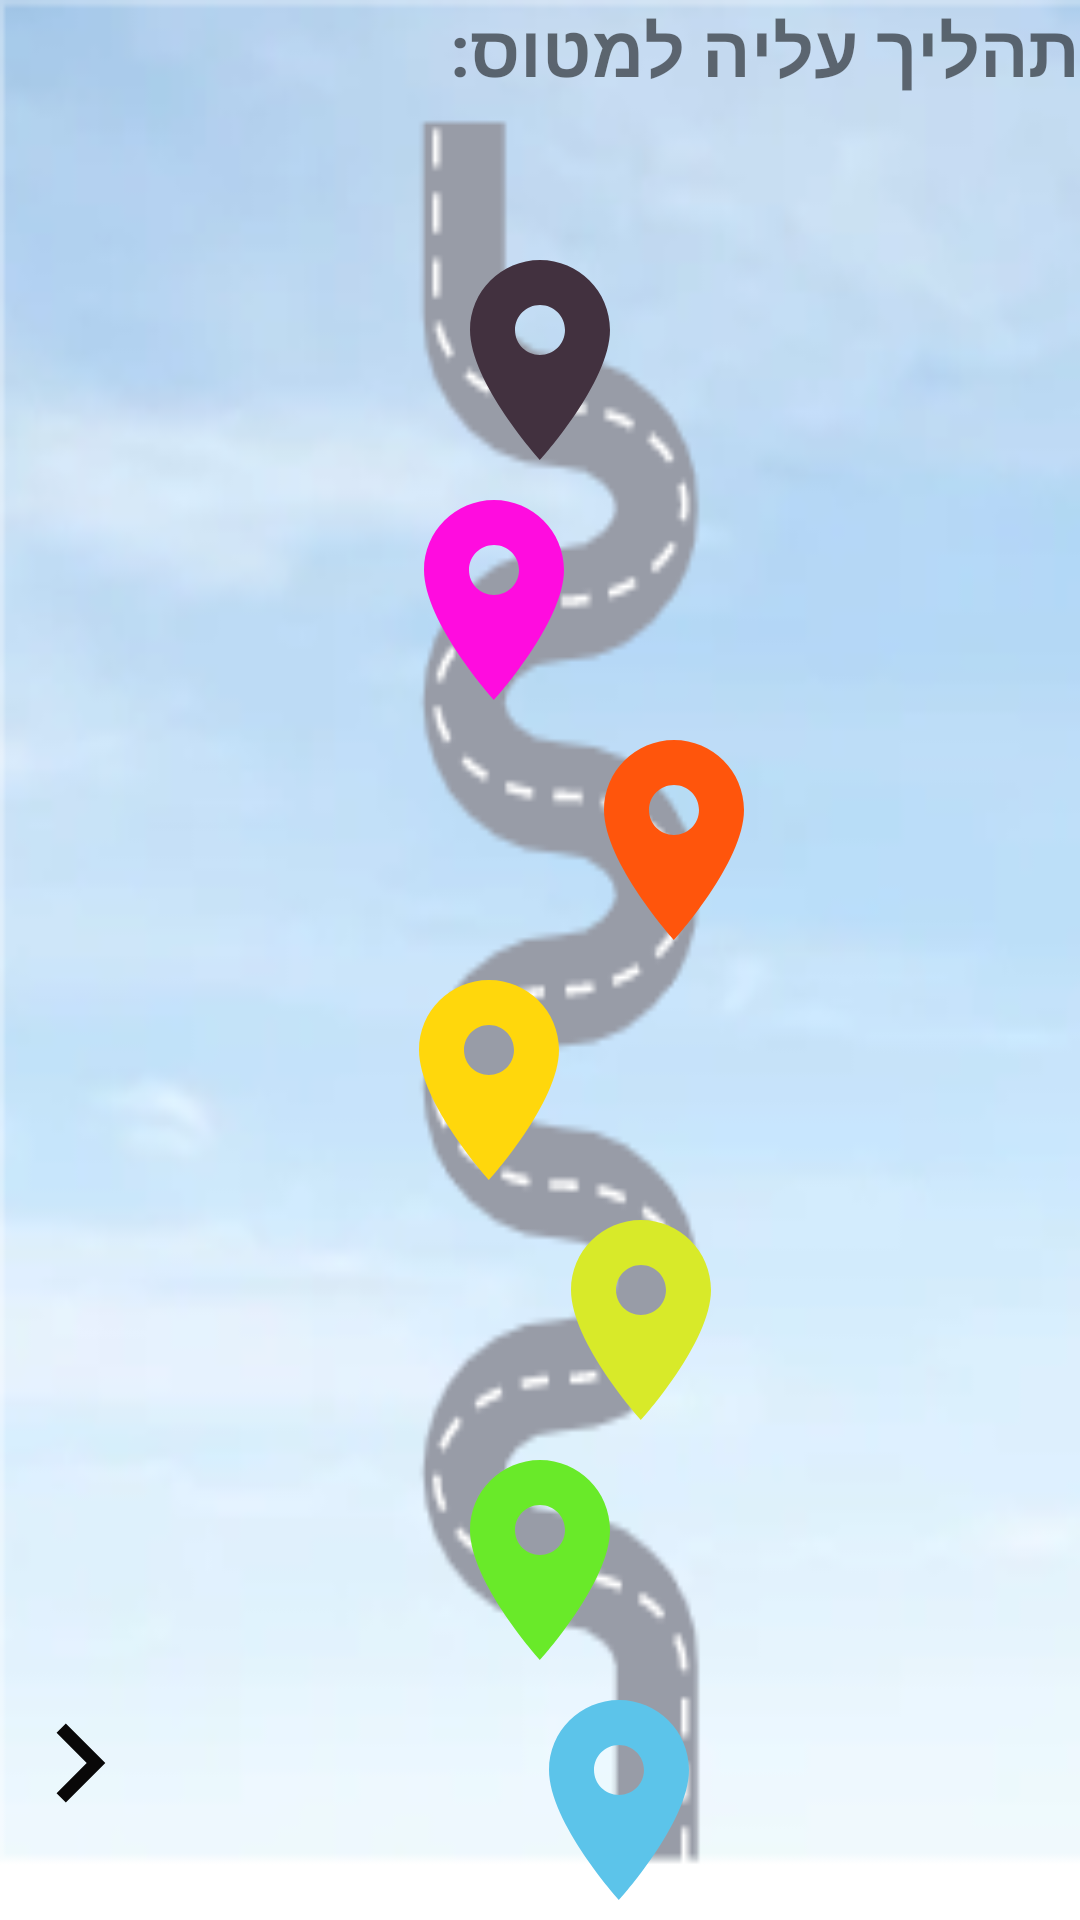

Named icons in this screenshot (1080×1920) and their centers, (x,y):
navnext: (80,1763)
